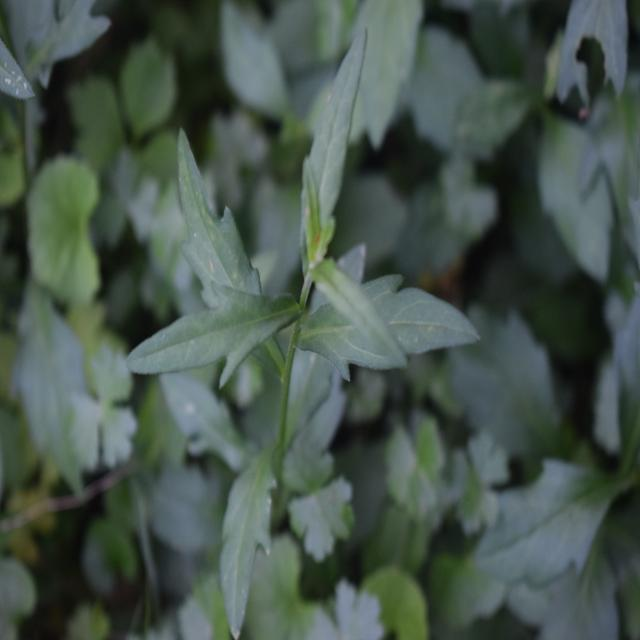Indian aster: (133, 56, 460, 476)
